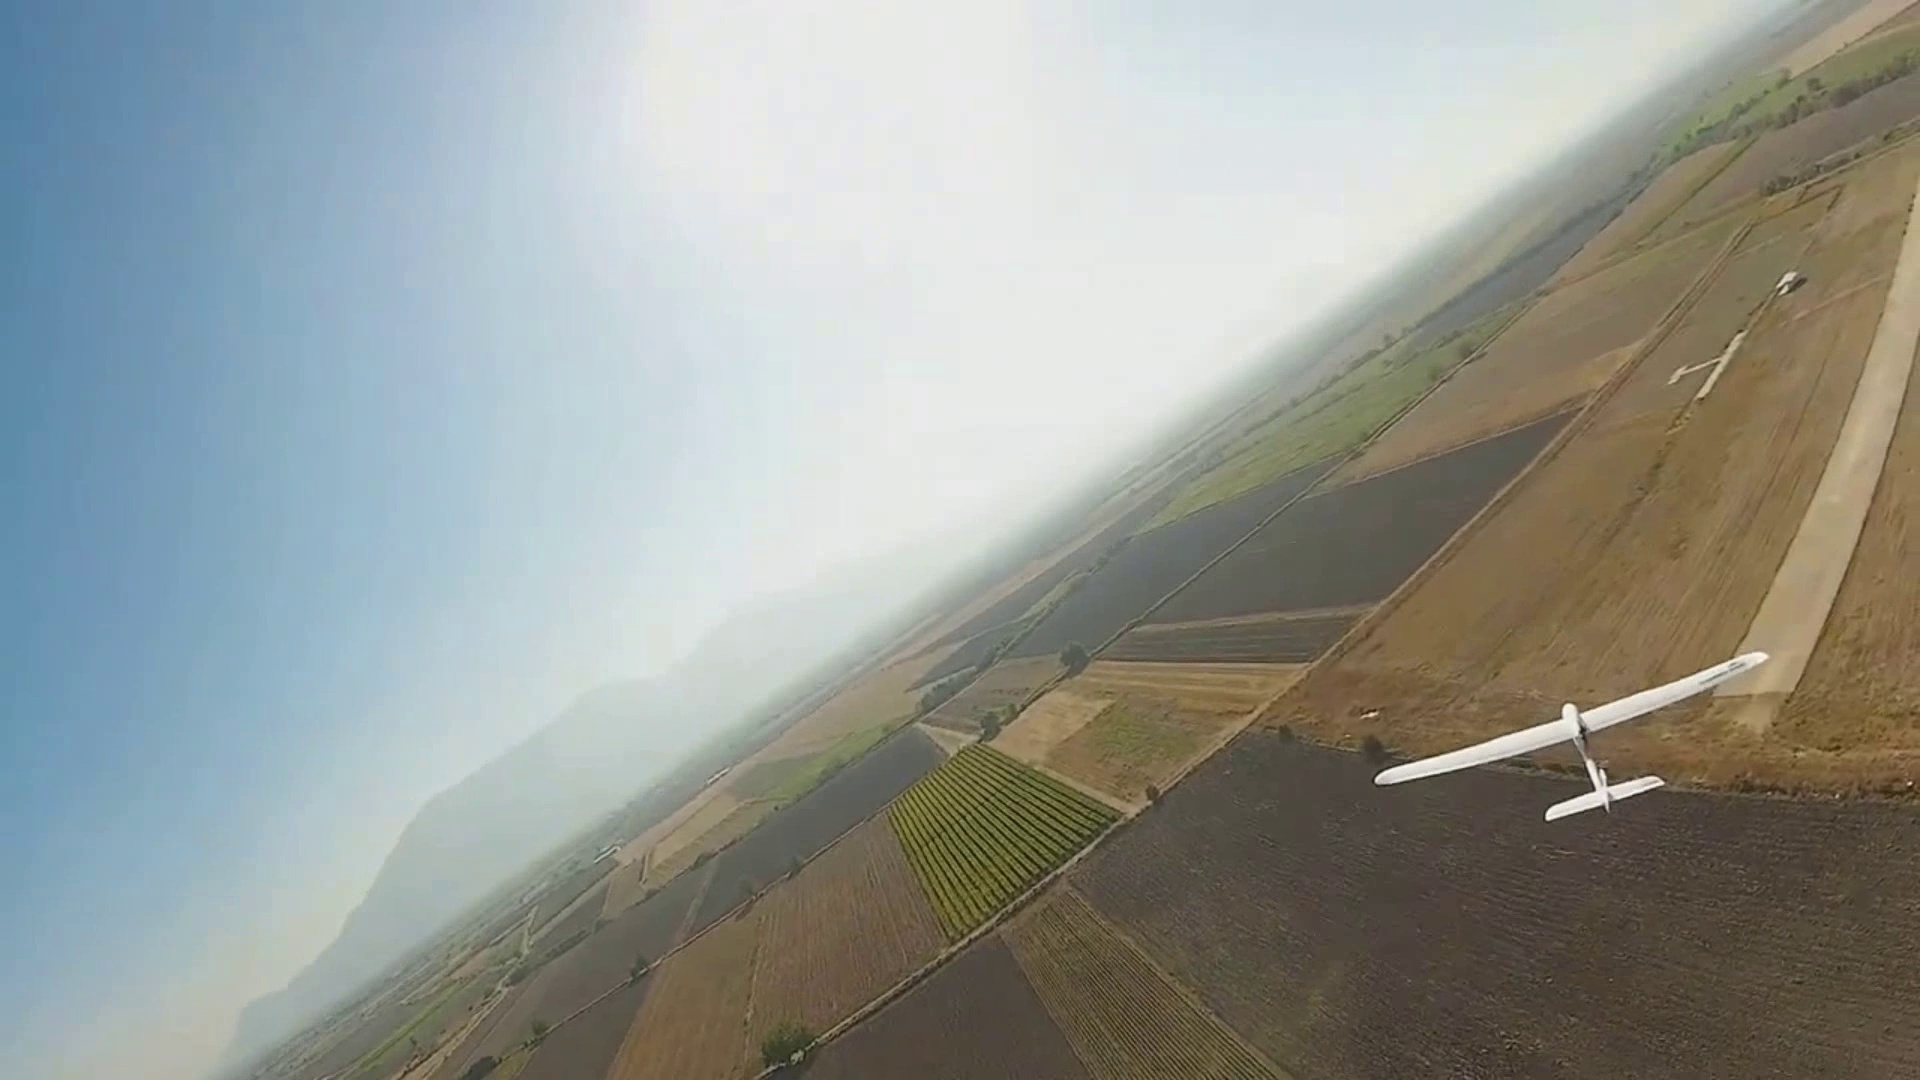airplane: (213, 32, 1899, 1065)
